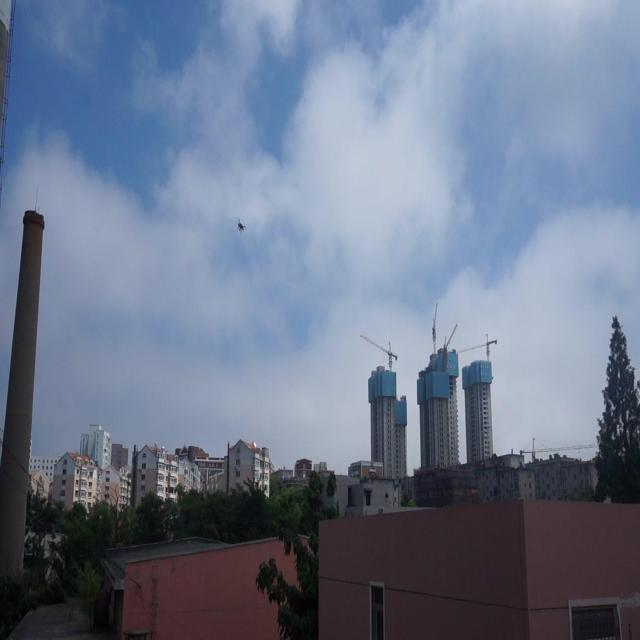drone: (235, 215, 247, 236)
